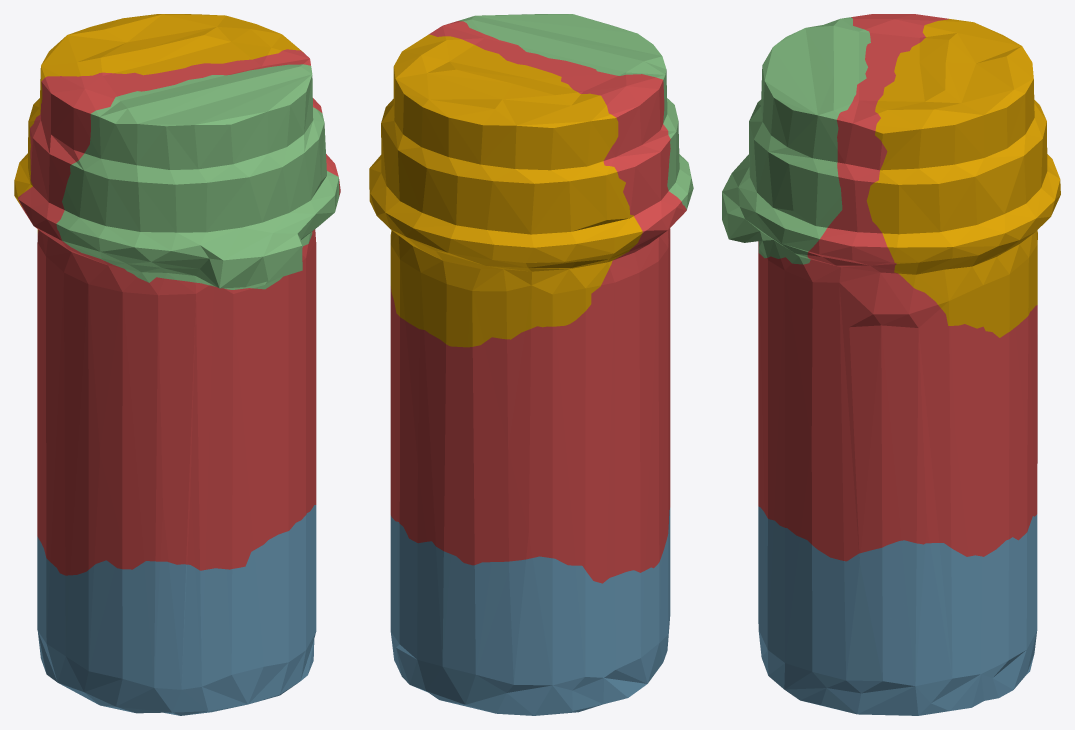
The model's file is mode_3_4pcs.glb.
The picture shows the model from 3 angles, left to right: view 1: azimuth 30°, elevation 25°; view 2: azimuth 150°, elevation 25°; view 3: azimuth 270°, elevation 25°; orthographic projection.
Visible parts, largest first — view 1: piece_1.obj, piece_3.obj, piece_2.obj, piece_0.obj; view 2: piece_1.obj, piece_0.obj, piece_2.obj, piece_3.obj; view 3: piece_1.obj, piece_2.obj, piece_0.obj, piece_3.obj.
Part boxes in pixels (x1=…): piece_1.obj: x1=18, y1=49, x2=340, y2=575; piece_3.obj: x1=56, y1=64, x2=339, y2=289; piece_2.obj: x1=37, y1=505, x2=316, y2=715; piece_0.obj: x1=14, y1=14, x2=303, y2=233; piece_1.obj: x1=390, y1=21, x2=686, y2=583; piece_0.obj: x1=369, y1=34, x2=642, y2=347; piece_2.obj: x1=390, y1=508, x2=670, y2=715; piece_3.obj: x1=458, y1=14, x2=693, y2=209; piece_1.obj: x1=758, y1=14, x2=1037, y2=561; piece_2.obj: x1=758, y1=506, x2=1037, y2=715; piece_0.obj: x1=866, y1=19, x2=1060, y2=337; piece_3.obj: x1=722, y1=17, x2=870, y2=264.
Bounding box in the file's own units: 0.4915 × 1 × 0.5126.
